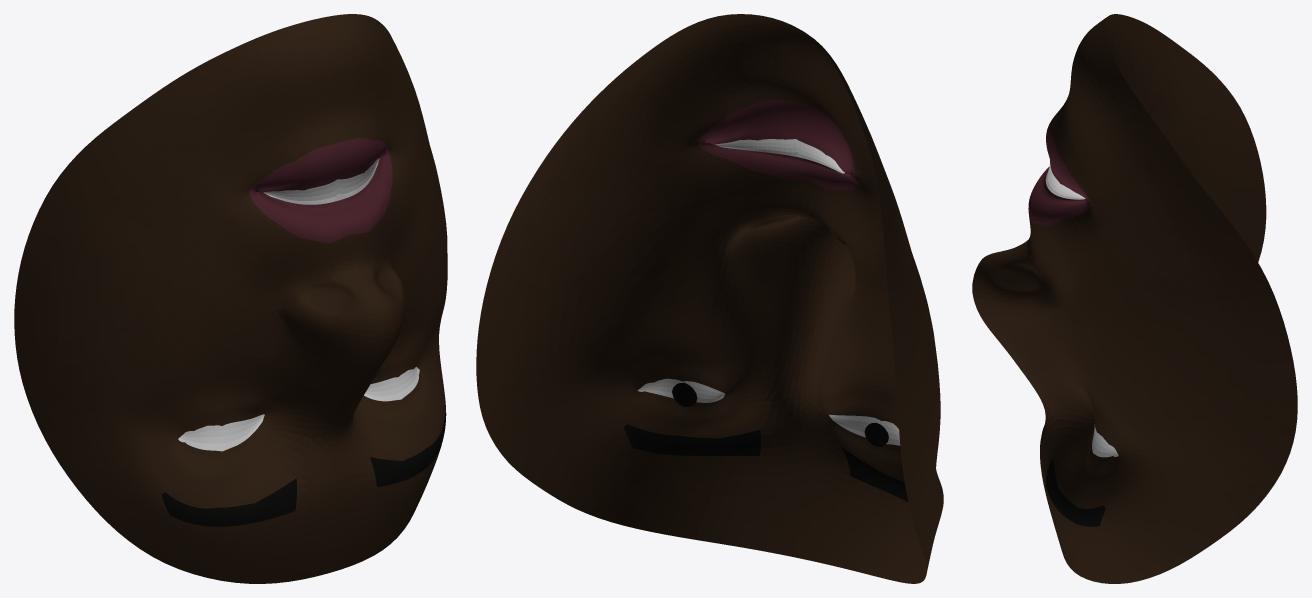
File: anxious.obj
3 renders of one model, left to right at view 1: azimuth 30°, elevation 25°; view 2: azimuth 150°, elevation 25°; view 3: azimuth 270°, elevation 25°, orthographic. The views are drawn at different scales.
Visible parts, largest first — view 1: face_mesh_subdivided; view 2: face_mesh_subdivided; view 3: face_mesh_subdivided.
Boxes of the visible parts, <box> form: face_mesh_subdivided: <box>14,14,447,583</box>; face_mesh_subdivided: <box>476,14,943,583</box>; face_mesh_subdivided: <box>972,14,1297,583</box>.
Size of the model in its own units: 0.6069 by 0.7864 by 0.448.
